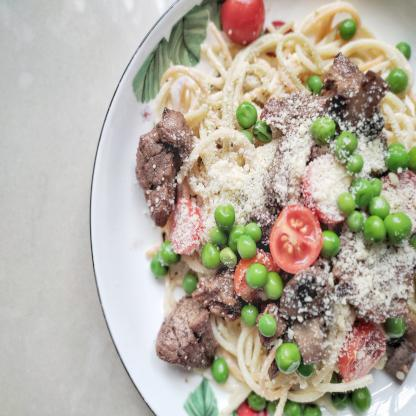Carne: (134, 111, 190, 224), (149, 296, 215, 365)
